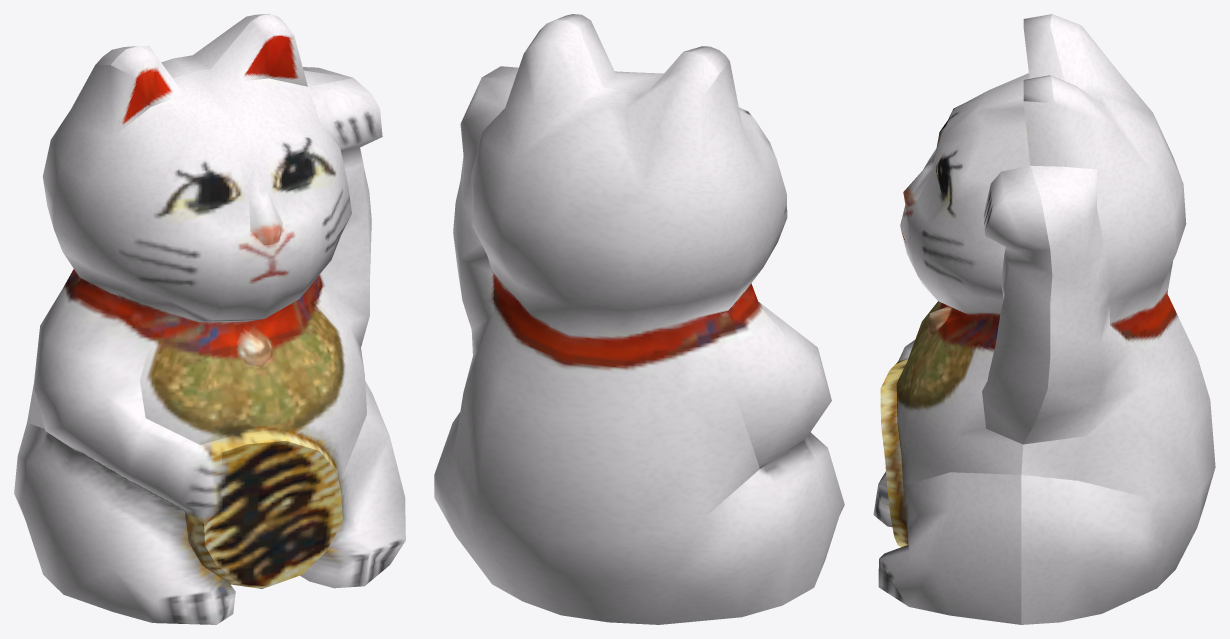
Rendered from BeckoningCat1.a.fbx.
The picture shows the model from 3 angles, left to right: view 1: azimuth 30°, elevation 25°; view 2: azimuth 150°, elevation 25°; view 3: azimuth 270°, elevation 25°; orthographic projection. The views are drawn at different scales.
Visible parts, largest first — view 1: Group 0; view 2: Group 0; view 3: Group 0.
Part boxes in pixels (x1,y1,x2,y2): Group 0: (14,14,405,624); Group 0: (434,14,844,624); Group 0: (873,14,1215,624).
Size of the model in its own units: 16.93 by 24.17 by 14.91.
Materials: 1 (1 with a texture image).
